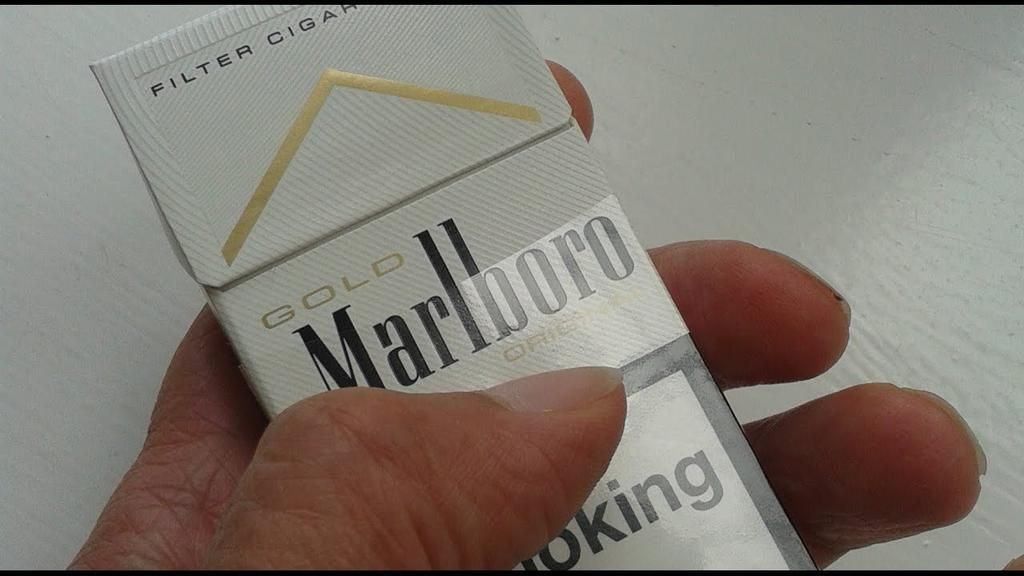marlboro_gold: (191, 8, 558, 576)
